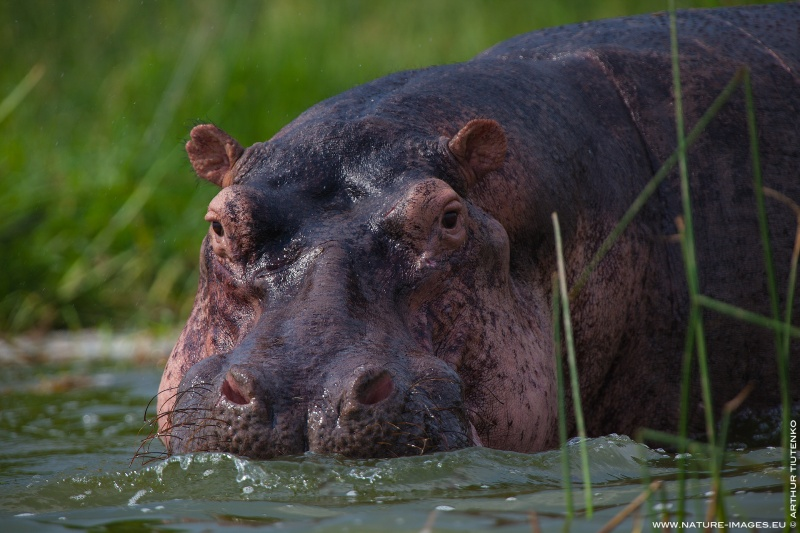hipopotamo: (154, 7, 800, 462)
